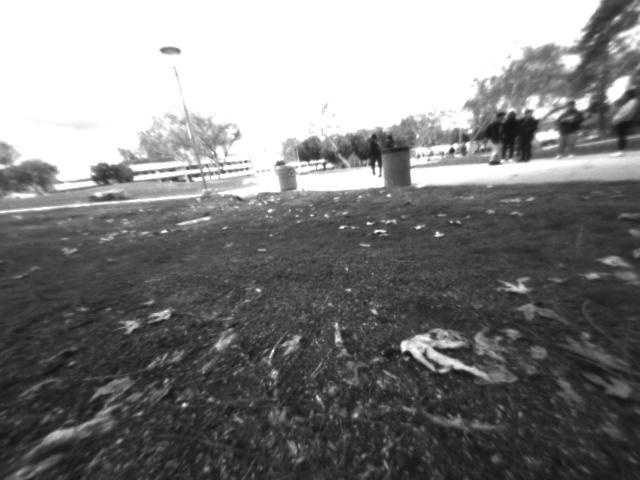trashcan: (382, 148, 414, 190), (278, 164, 300, 189)
